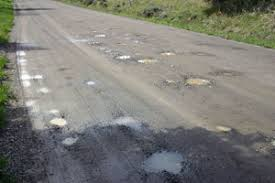pothole: (134, 143, 193, 179), (179, 70, 219, 94), (46, 112, 70, 131), (59, 135, 84, 153), (210, 122, 235, 135), (134, 56, 161, 66), (158, 46, 177, 58), (112, 52, 132, 61)
